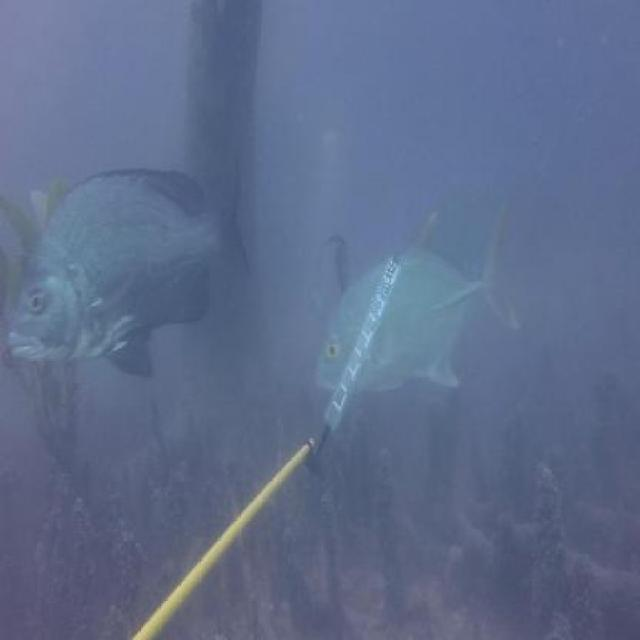Caranx: (316, 199, 521, 398)
acanthopagrus_palmaris: (7, 145, 251, 383), (325, 230, 352, 302)
